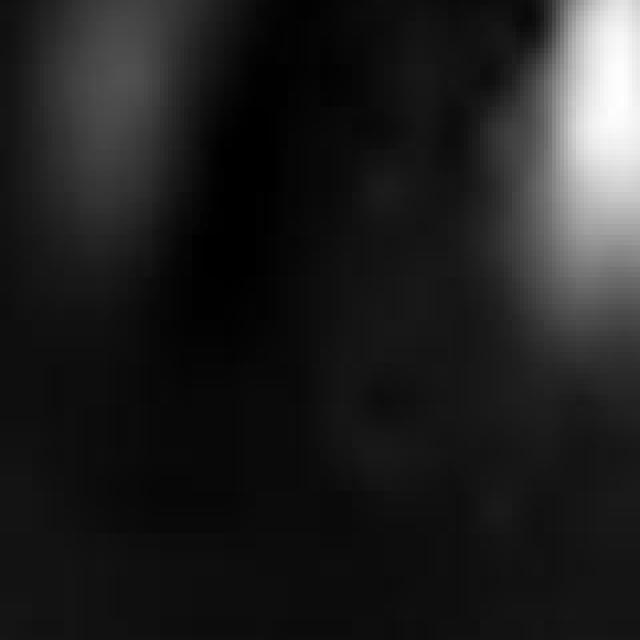person: (29, 1, 205, 289), (509, 1, 640, 358)
